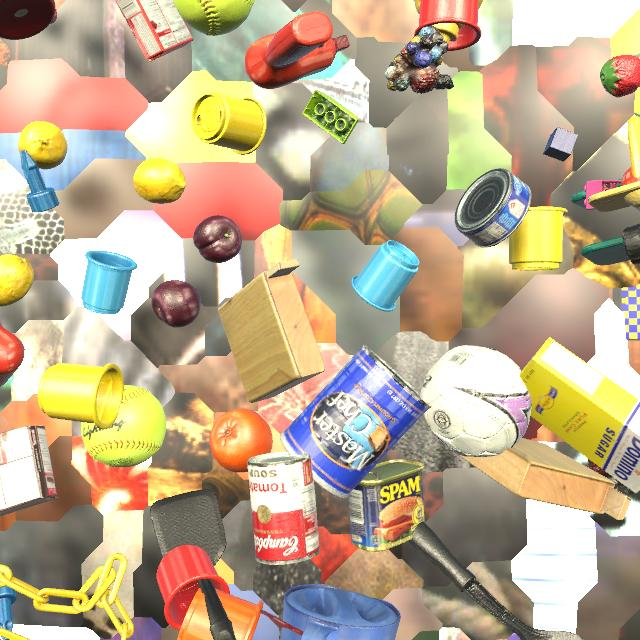ycb_002_master_chef_can: (280, 344, 431, 498)
ycb_004_sugar_box: (519, 337, 640, 494)
ycb_005_tomato_soup_can: (247, 451, 320, 565)
ycb_006_mustard_bottle: (415, 0, 483, 56)
ycb_007_tuna_fish_can: (454, 168, 532, 248)
ycb_008_pudding_box: (0, 425, 58, 516)
ycb_009_gelatin_box: (115, 0, 194, 61)
ycb_010_potted_meat_can: (348, 459, 425, 552)
ycb_012_strawberry: (600, 55, 640, 97)
ycb_014_lemon: (133, 158, 187, 204), (18, 121, 68, 169), (0, 254, 34, 306)
ycb_017_orange: (210, 408, 273, 473)
ycb_018_plum: (151, 280, 201, 328), (193, 215, 242, 263)
